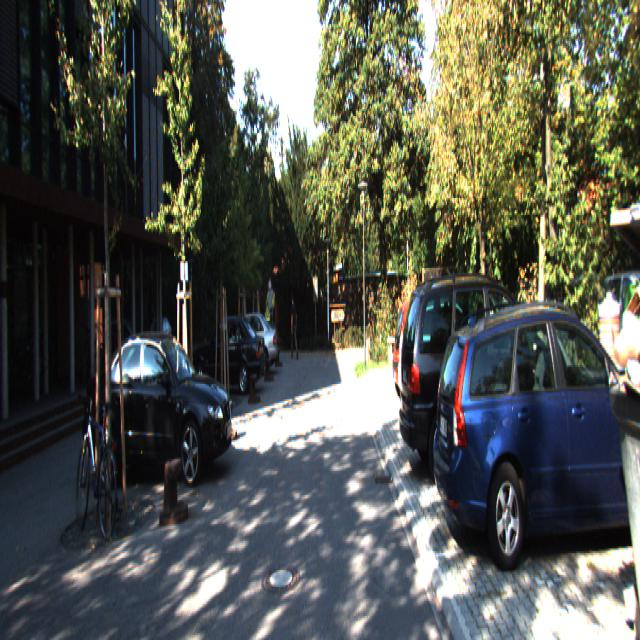Car: (428, 294, 640, 570), (396, 272, 570, 491), (81, 330, 236, 487), (190, 317, 267, 402), (215, 313, 277, 378)
